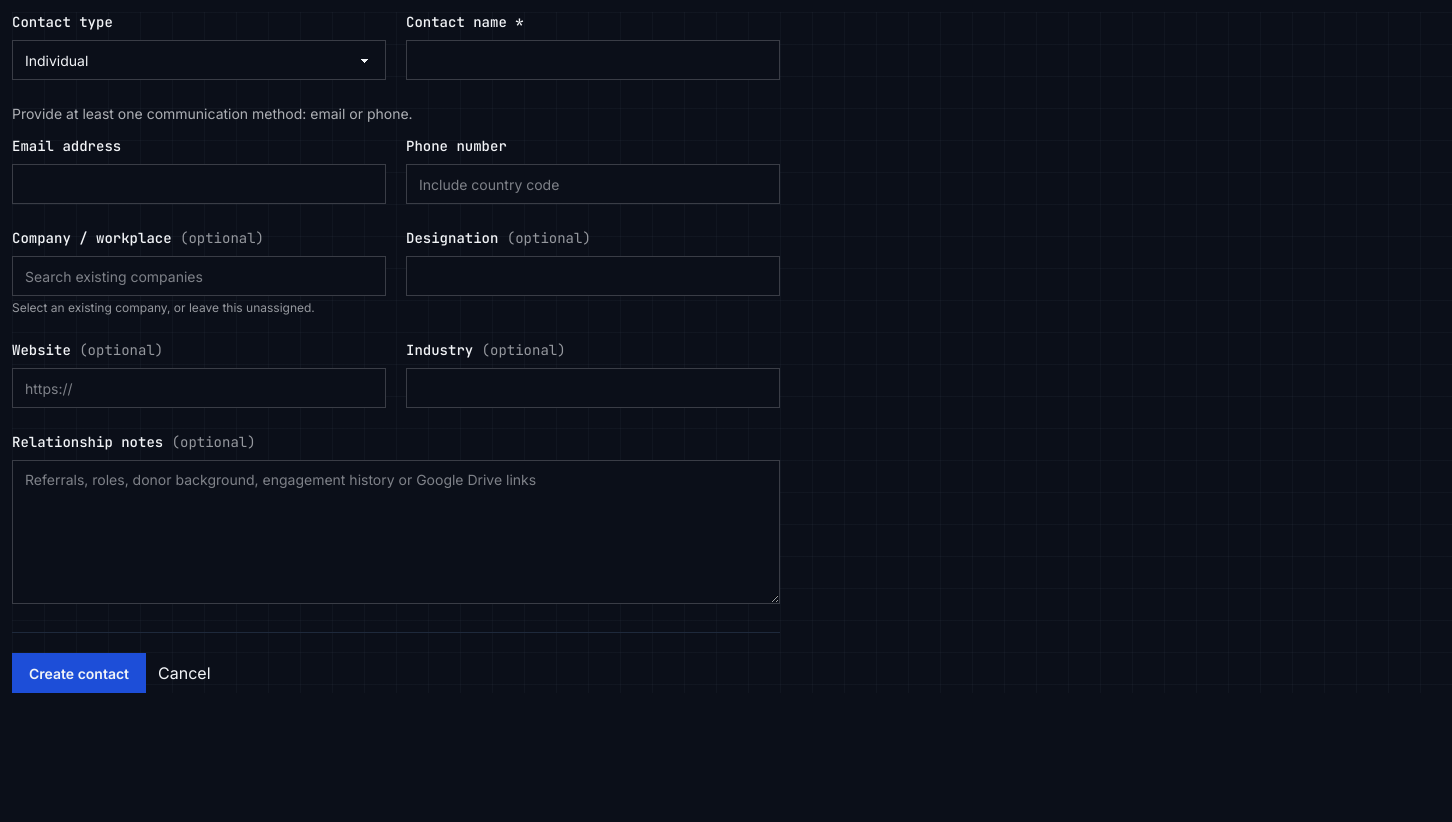
Test: contact form interactions › shows communication errors before attempting to save
Type "Fictional Person" into the field labelled "Contact name *" at coordinates (593, 60), box [406,40,780,80]
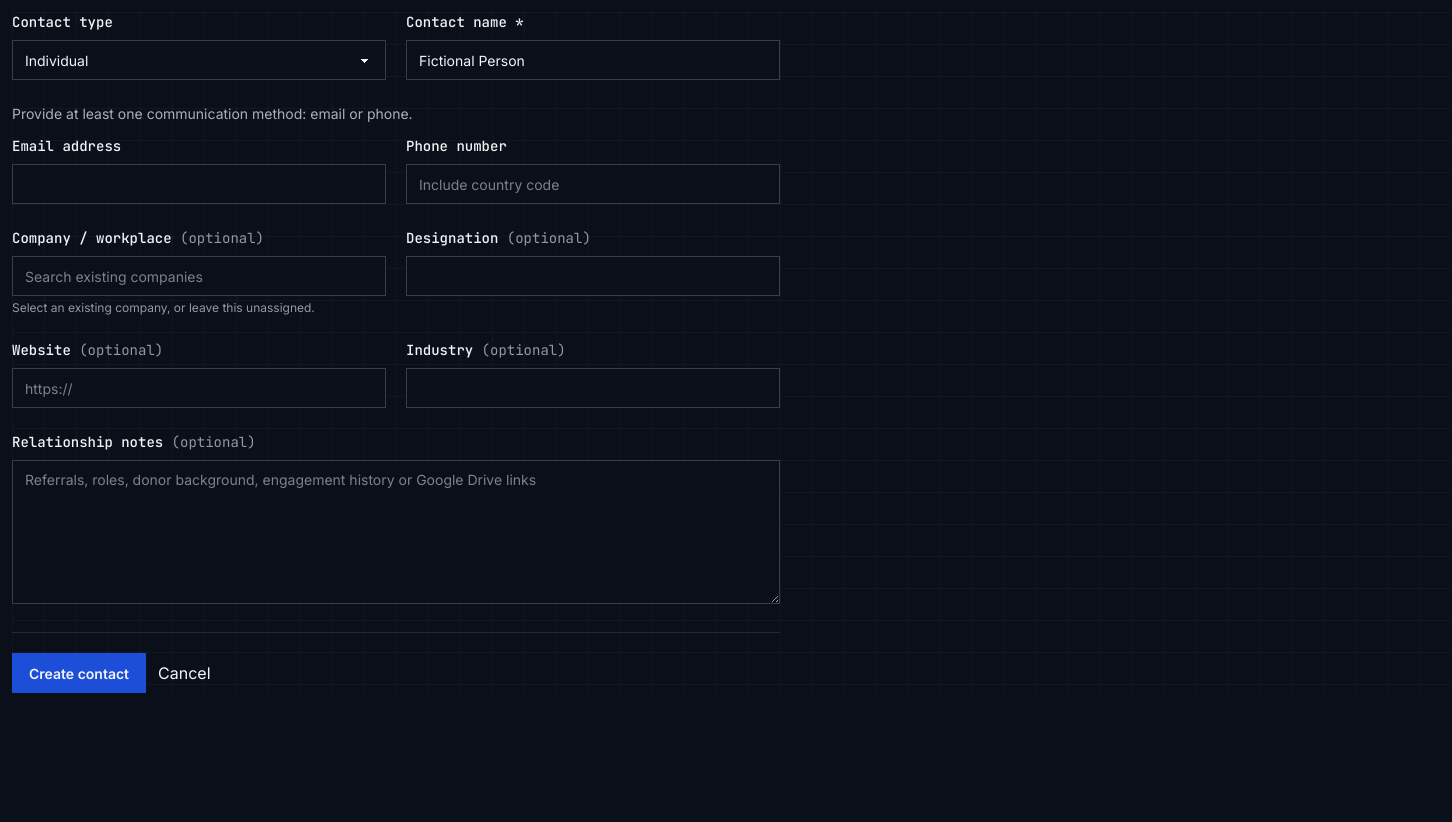
Click the button "Create contact" at coordinates (79, 673), box [12,653,146,693]
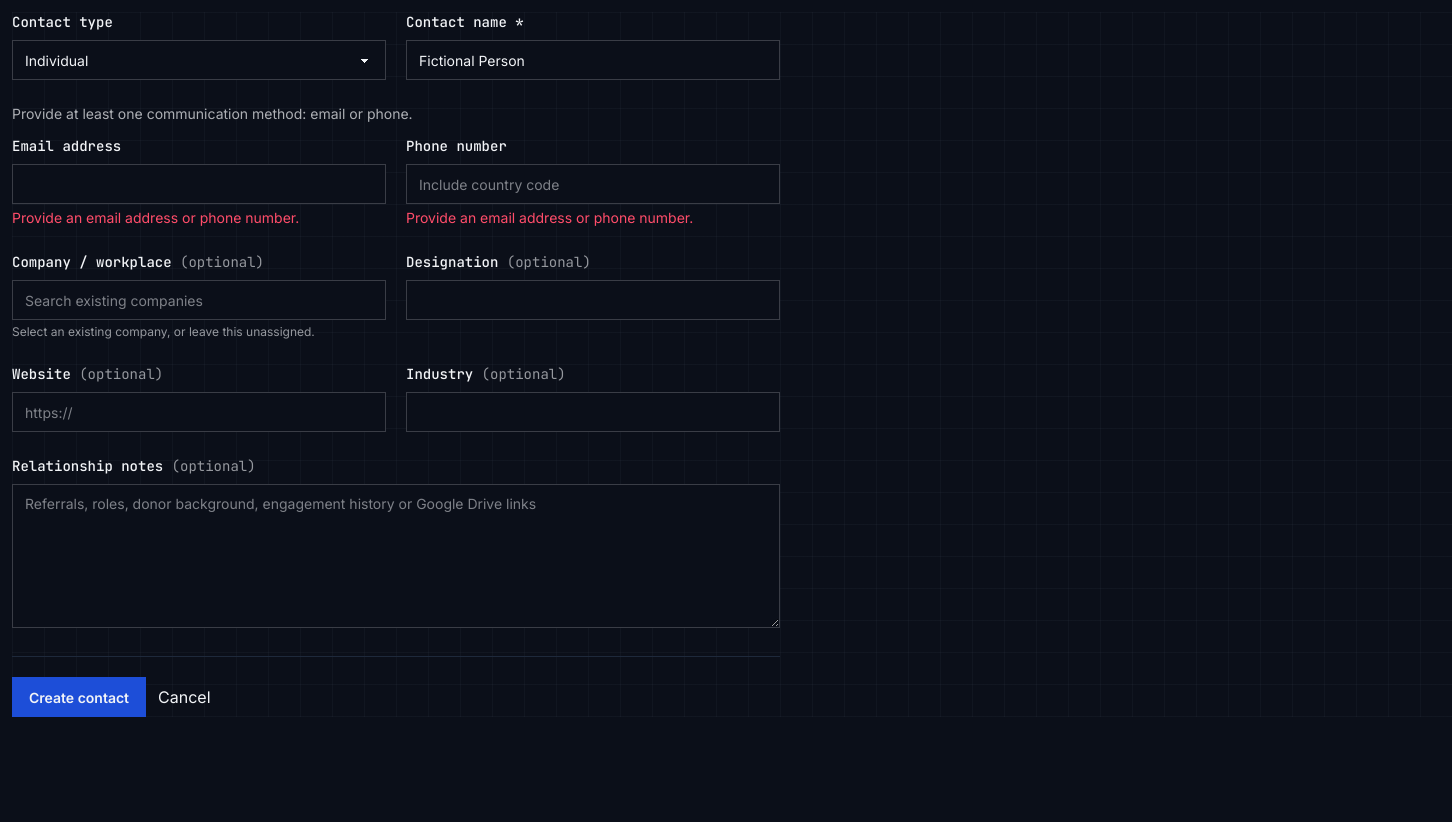
Expected: the text "Provide an email address or phone number." is shown 2 times, [12,209,299,226]; [406,209,693,226]
